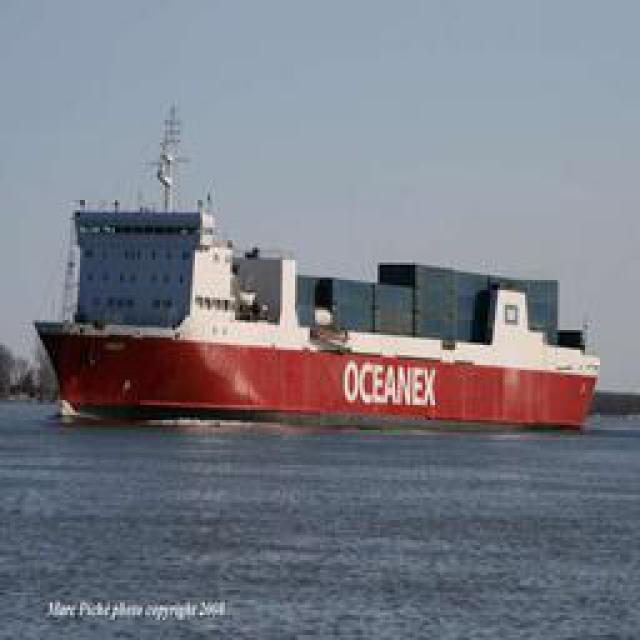Ship: (33, 210, 601, 420)
